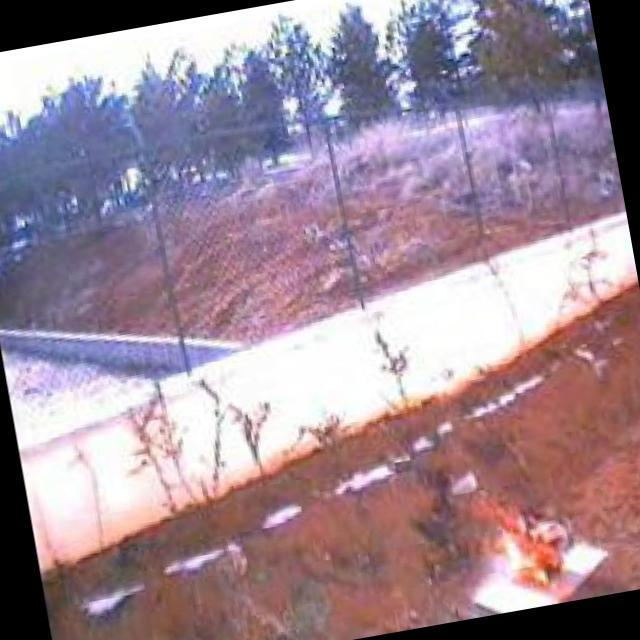Fire: (463, 472, 577, 601)
